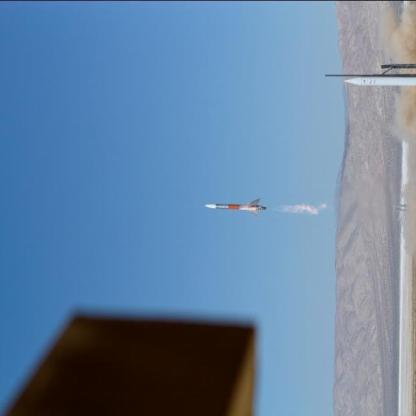MIL_TBM: (205, 200, 262, 216), (344, 74, 416, 84)
